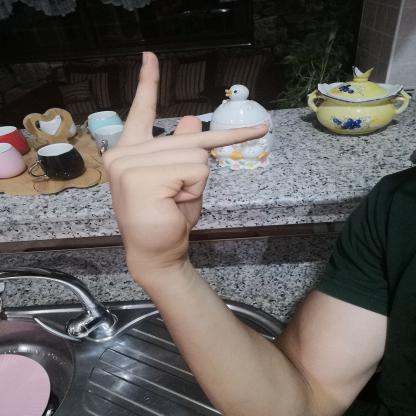DHAA: (88, 41, 286, 275)
